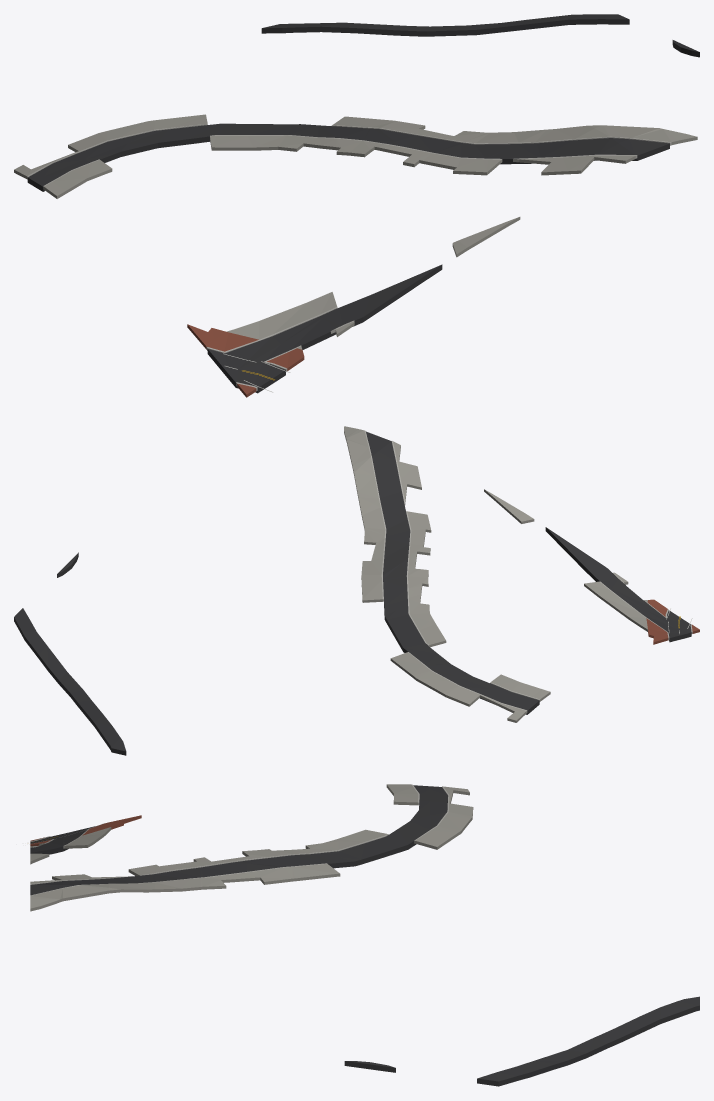
3 views of the same model, one above another, from view 1: azimuth 30°, elevation 25°; view 2: azimuth 150°, elevation 25°; view 3: azimuth 270°, elevation 25° (orthographic). The views are drawn at different scales.
Bounding box in the file's own units: 147 × 34.32 × 149.
